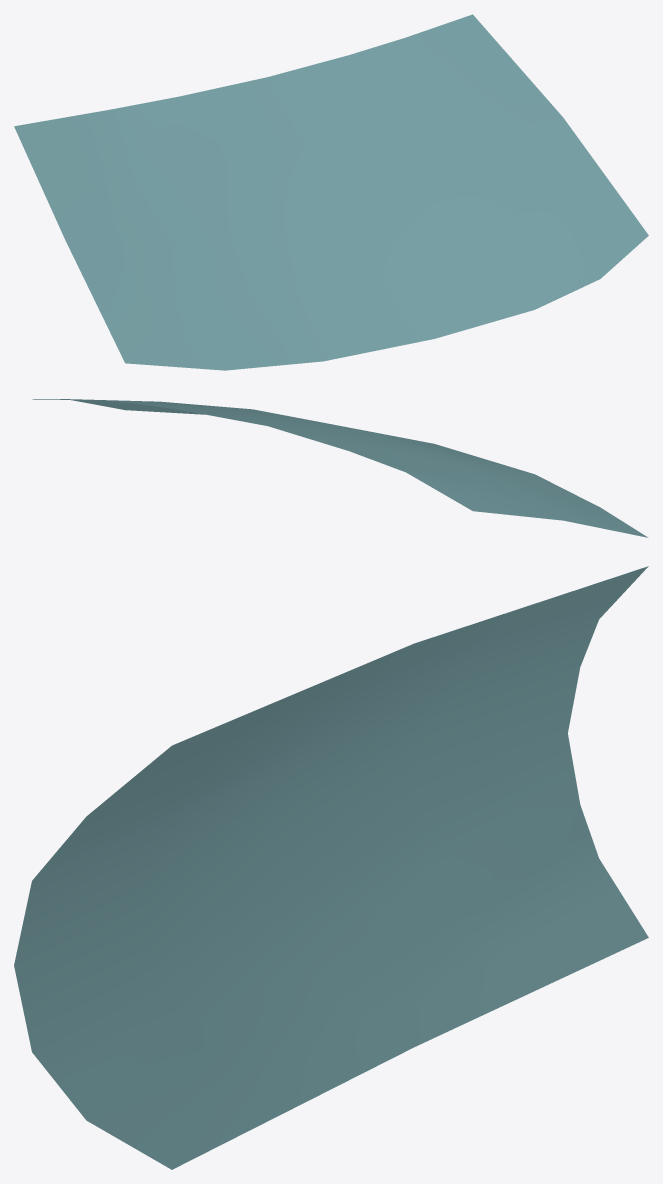
The model's file is Electric_1_Window_Tessellate_F.fbx.
3 renders of one model, top to bottom at view 1: azimuth 30°, elevation 25°; view 2: azimuth 150°, elevation 25°; view 3: azimuth 270°, elevation 25°, orthographic. The views are drawn at different scales.
Parts seen in each view (by area): view 1: Electric_1_Window_Tessellate_F; view 2: Electric_1_Window_Tessellate_F; view 3: Electric_1_Window_Tessellate_F.
Boxes of the visible parts, bbox=[...] form: Electric_1_Window_Tessellate_F: bbox=[14, 14, 648, 370]; Electric_1_Window_Tessellate_F: bbox=[32, 399, 648, 537]; Electric_1_Window_Tessellate_F: bbox=[14, 566, 648, 1169].
Bounding box in the file's own units: 148 × 38.3 × 93.74.
